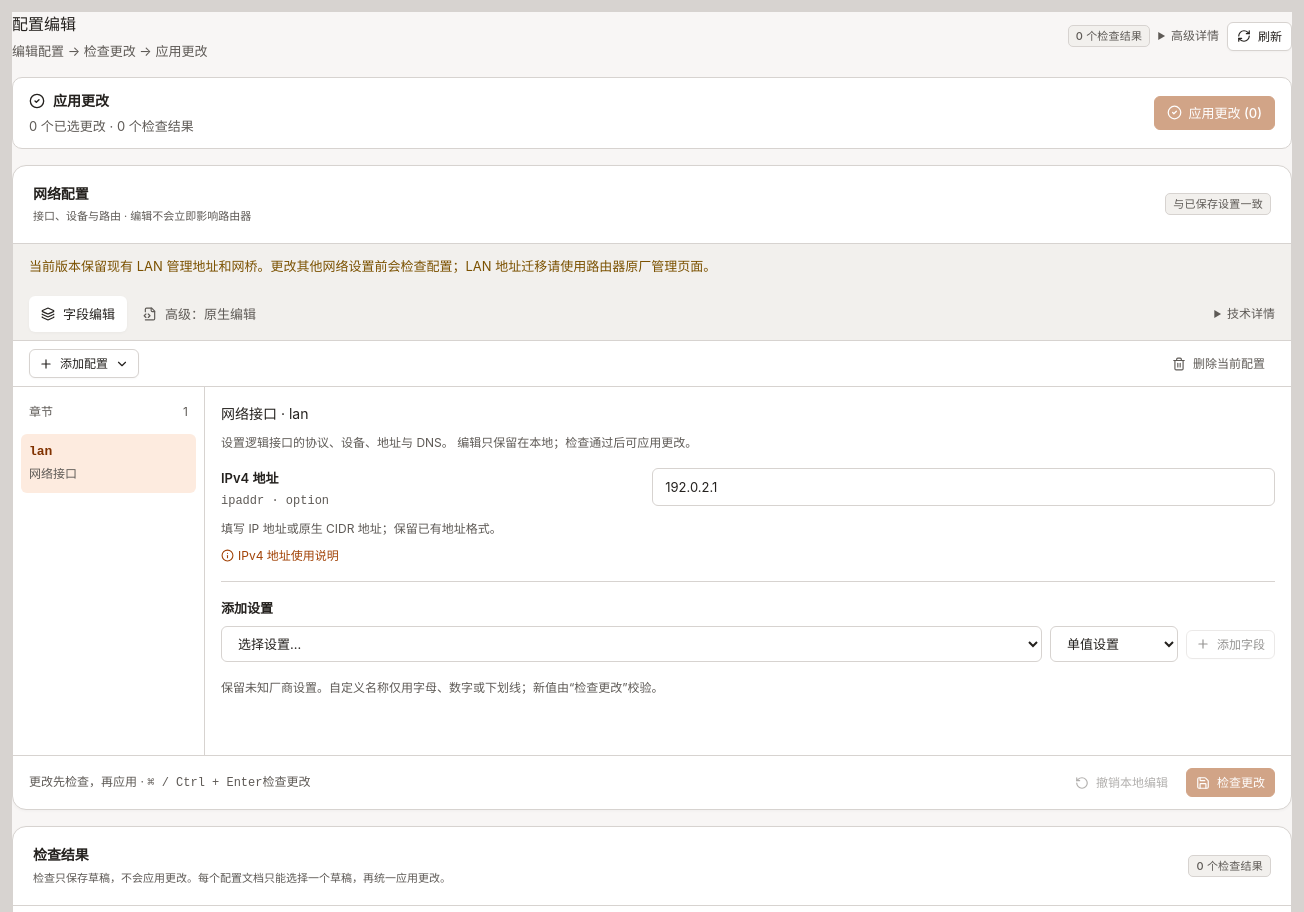
Test: FullControl configuration › shows generation conflicts without losing unsaved text or silently retrying Stage
The width and height of the screenshot is (1304, 912).
Step 1. Type "192.0.2.2" into the field named "(ipaddr)" → (964, 487), box left=652, top=468, right=1275, bottom=506
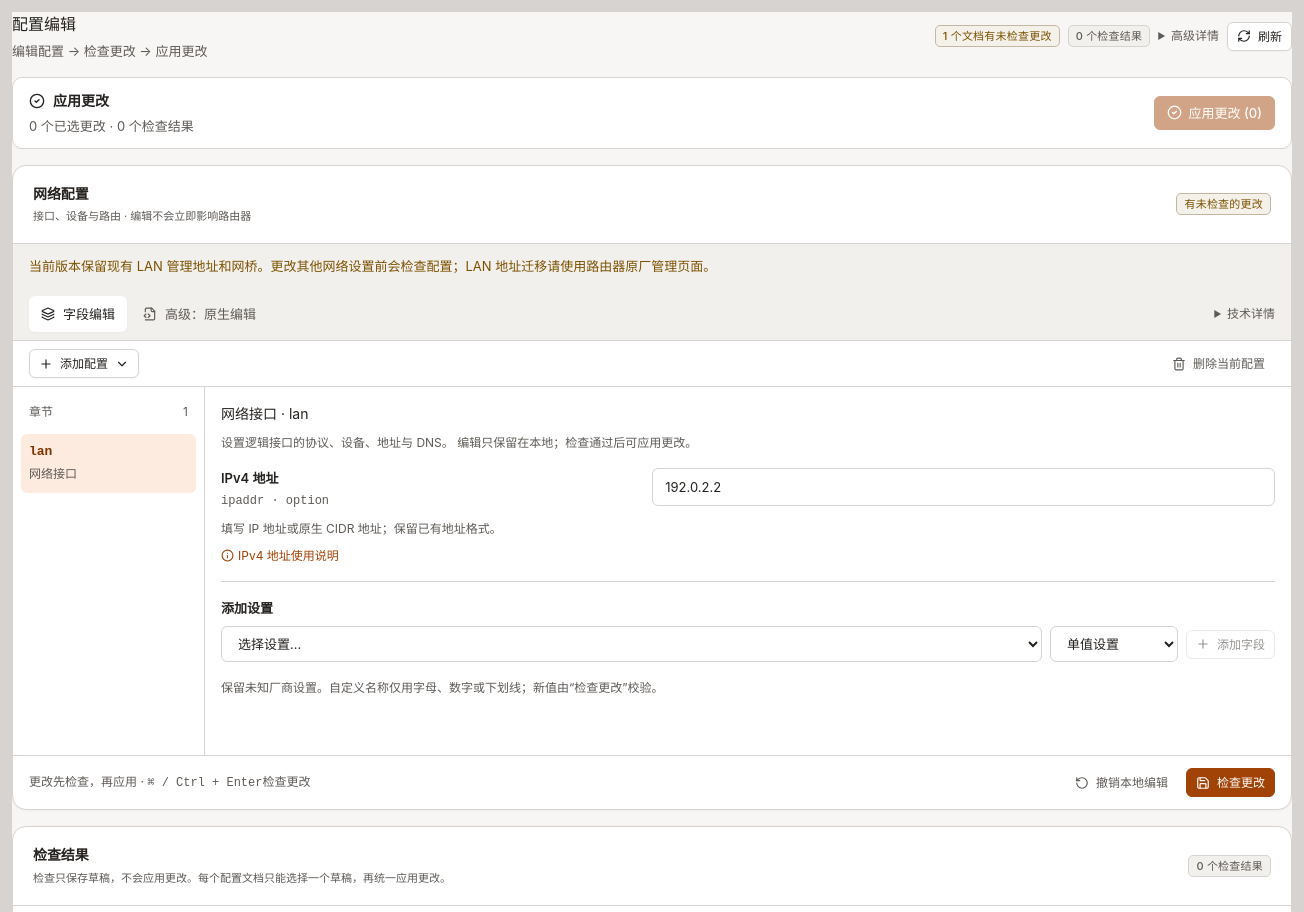
Step 2. Click the button "检查更改" → (1230, 783), box left=1186, top=768, right=1275, bottom=797
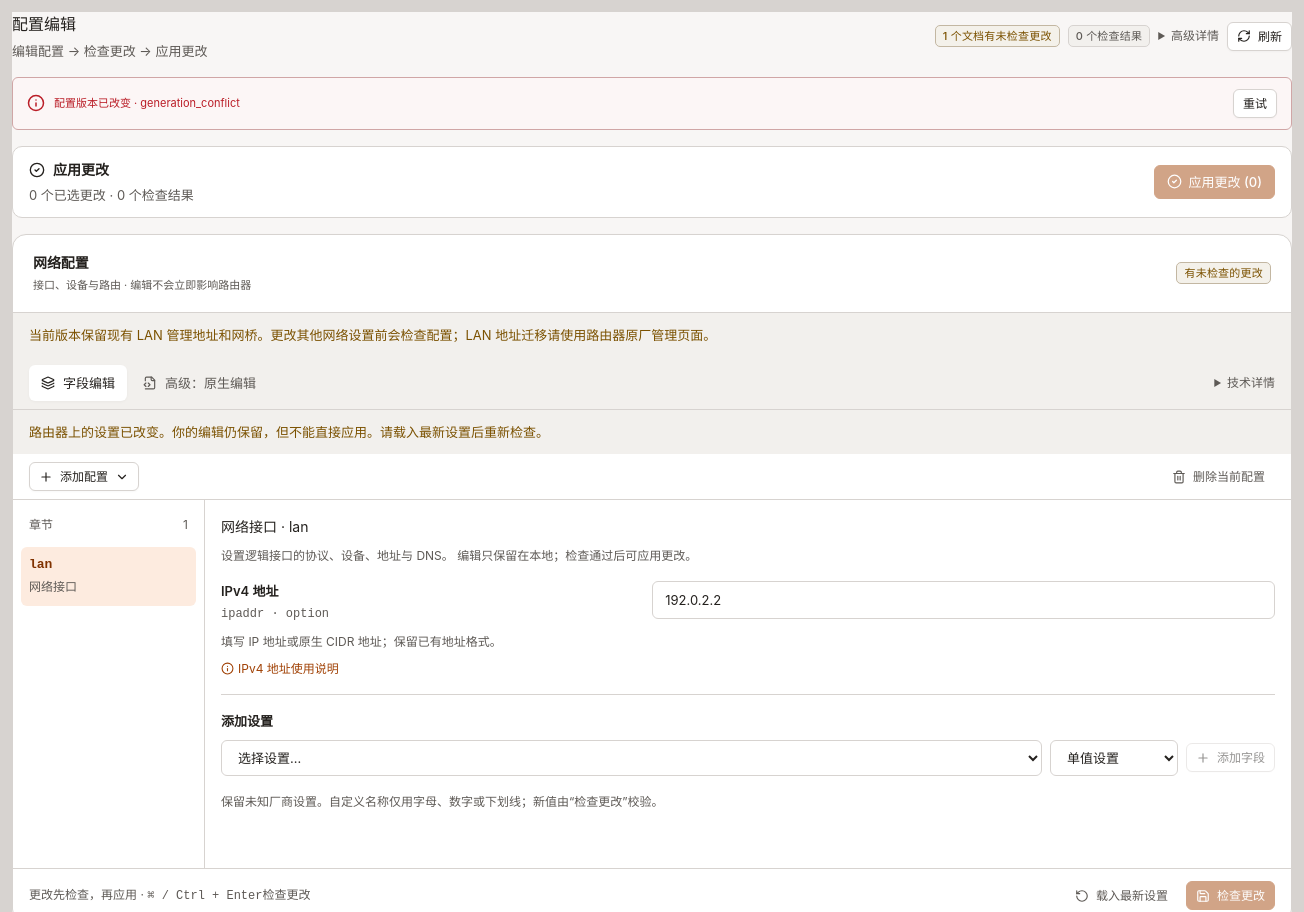
Check: the text "配置版本已改变 · generation_conflict" is shown, box left=54, top=96, right=240, bottom=110
Check: the button "检查更改" is disabled, box left=1186, top=882, right=1275, bottom=910
